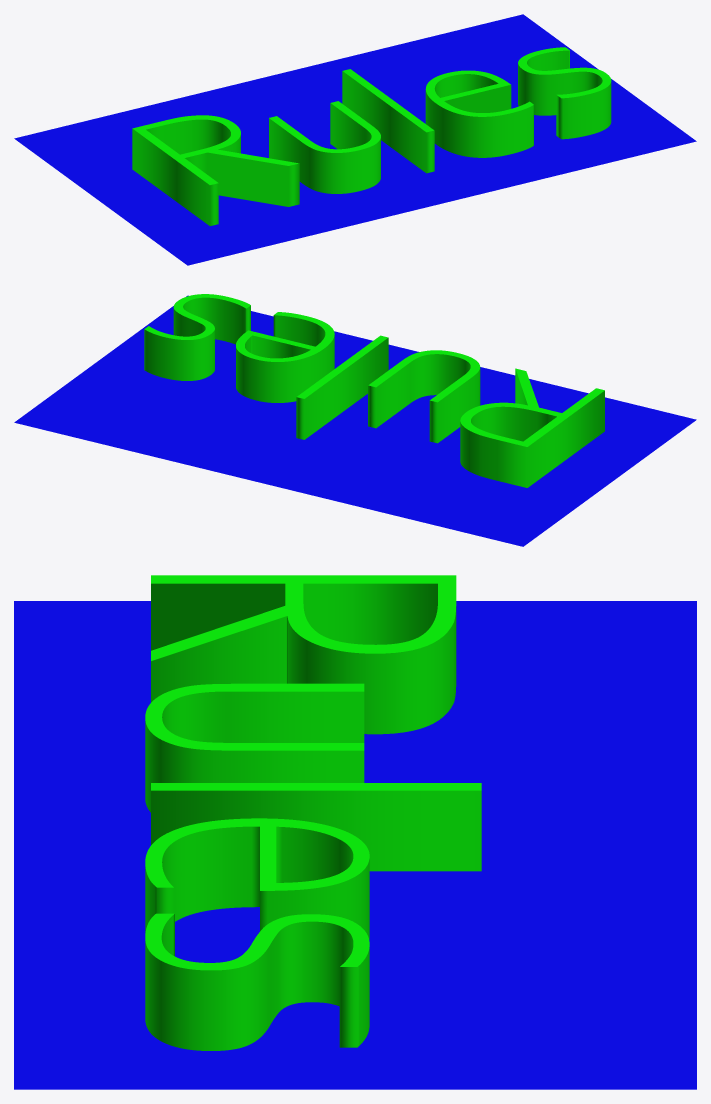
File: rules.glb
3 views of the same model, one above another, from view 1: azimuth 30°, elevation 25°; view 2: azimuth 150°, elevation 25°; view 3: azimuth 270°, elevation 25° (orthographic). The views are drawn at different scales.
Visible parts, largest first — view 1: Plane, Text; view 2: Plane, Text; view 3: Plane, Text.
Part boxes in pixels (left/top/right/bottom): Plane: left=14, top=14, right=696, bottom=265; Text: left=132, top=47, right=611, bottom=225; Plane: left=14, top=295, right=696, bottom=546; Text: left=144, top=294, right=604, bottom=487; Plane: left=14, top=601, right=696, bottom=1089; Text: left=145, top=575, right=481, bottom=1050.
Size of the model in its own units: 1.3 by 0.1 by 0.768.
